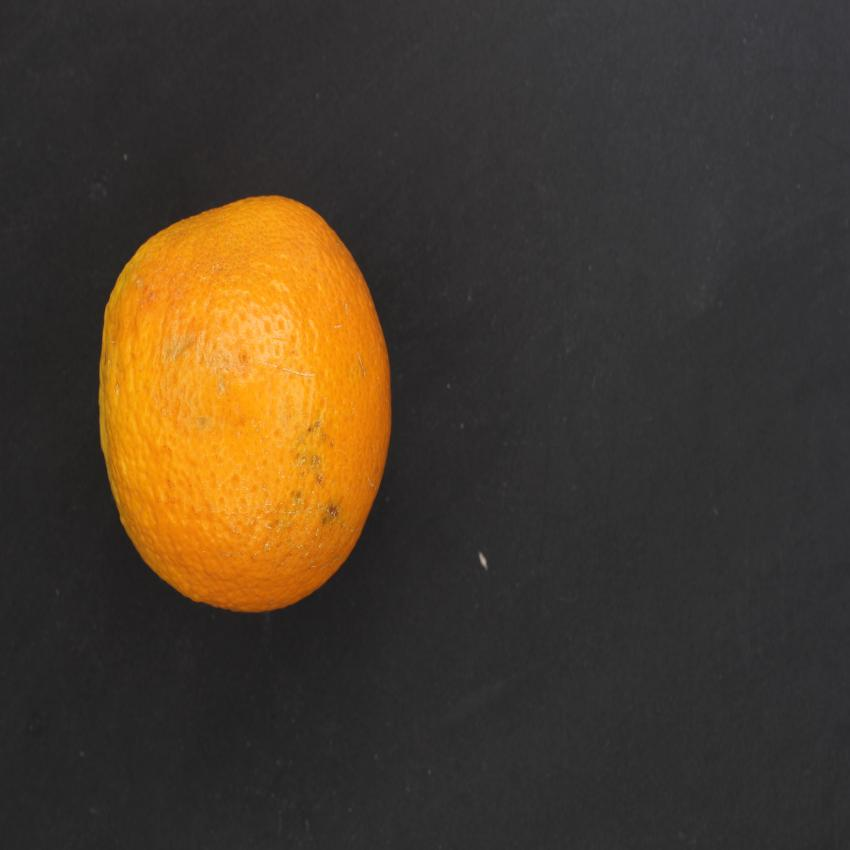Mal estado: (84, 167, 419, 630)
